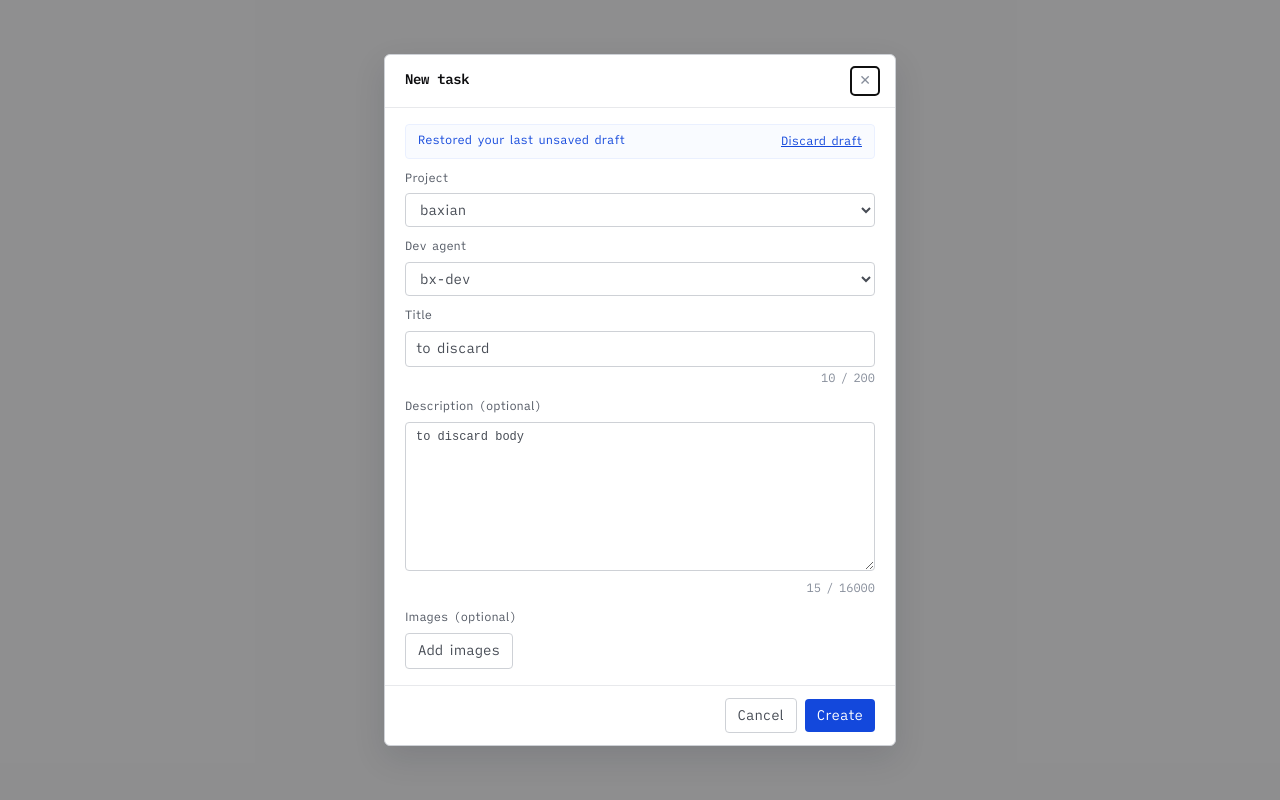
CreateTaskModal — draft persistence › "Discard" button removes the saved draft and resets the form to blank
What coordinates should you click on to do the following:
click the button "Discard draft"
I would click on:
 (822, 141)
Its box is [781,133,862,150].
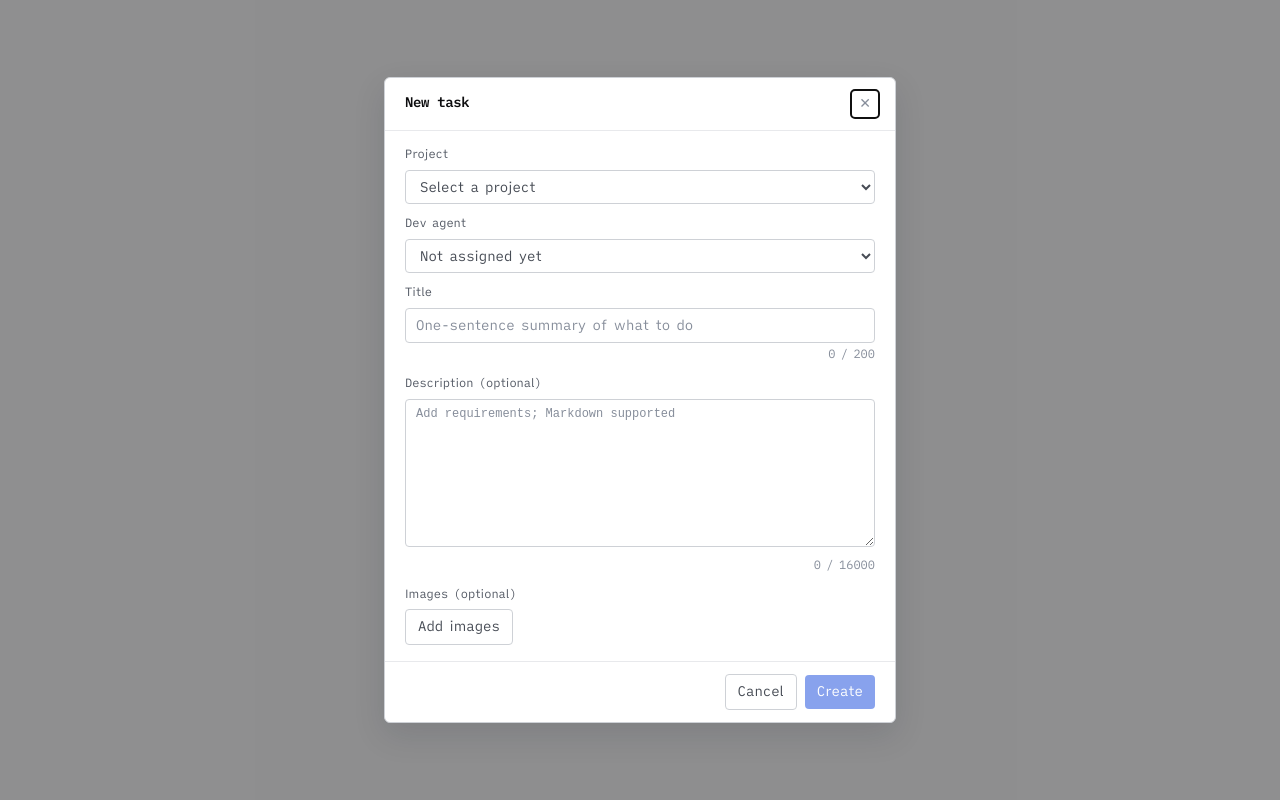
Check: the field labelled "Title" is empty, box [405,308,875,343]
Check: the text box labelled "Description (optional)" is empty, box [405,399,875,547]
Check: the text "Restored your last unsaved draft" is gone
